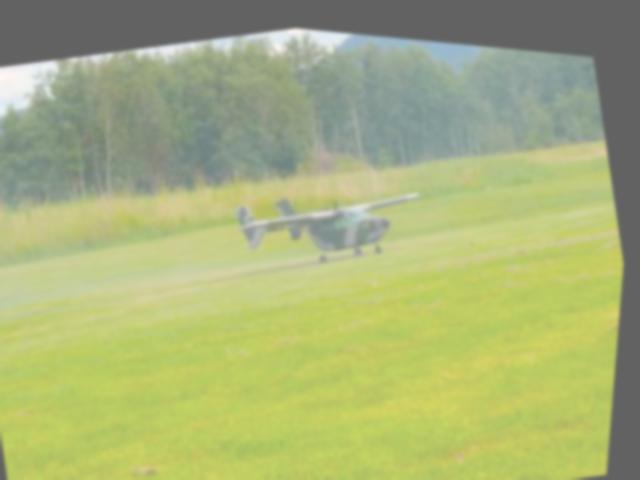uav: (230, 153, 436, 278)
